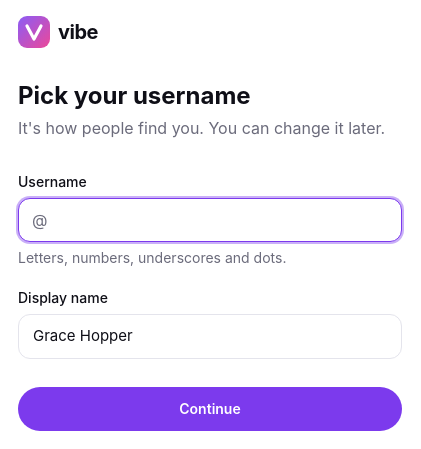
onboarding › surfaces a username claimed by someone else in the meantime
In the field labelled "Username": (210, 220) [18,198,402,242], type "racer"
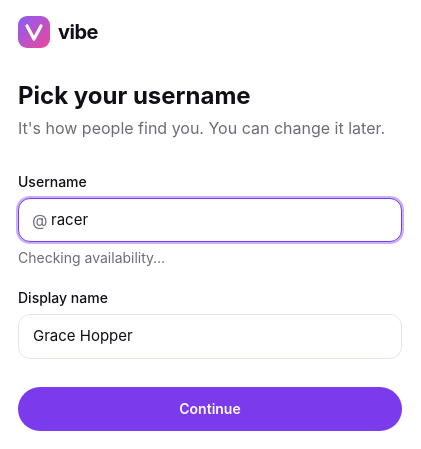
Click the button "Continue": (210, 408) [18,386,402,430]
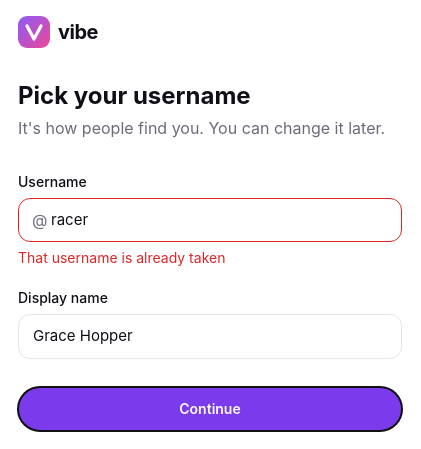
Check: the message reads "That username is already taken", box [18,249,225,266]
